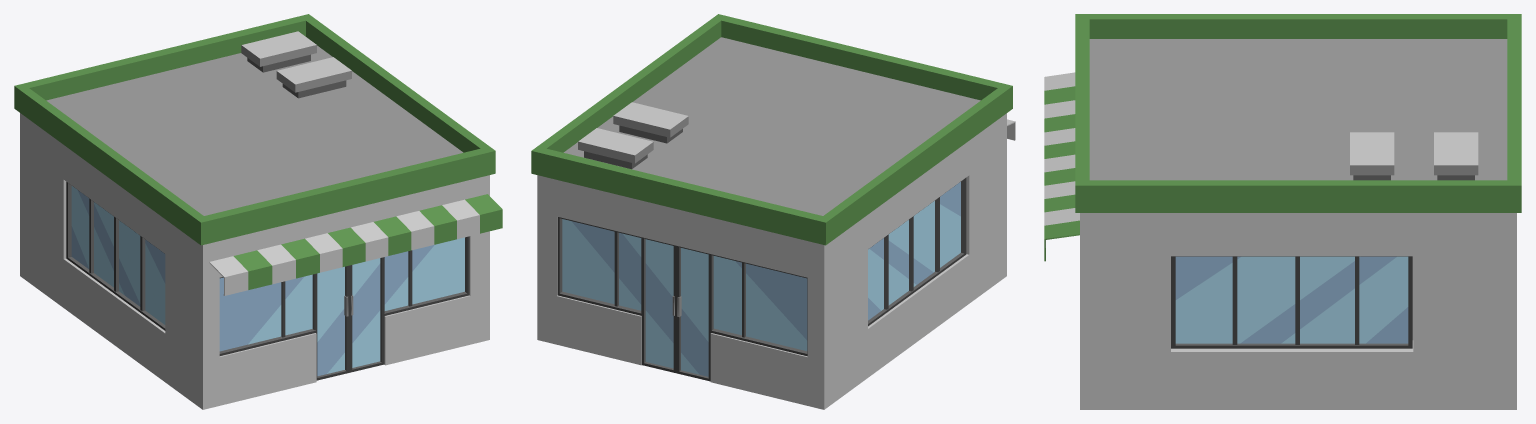
Rendered from cafe_007.fbx.
3 views of the same model, side by side, from view 1: azimuth 30°, elevation 25°; view 2: azimuth 150°, elevation 25°; view 3: azimuth 270°, elevation 25° (orthographic). The views are drawn at different scales.
Parts seen in each view (by area): view 1: cafe_007; view 2: cafe_007; view 3: cafe_007.
Part boxes in pixels (bbox=[...]): cafe_007: bbox=[14, 14, 502, 409]; cafe_007: bbox=[531, 14, 1015, 409]; cafe_007: bbox=[1044, 14, 1521, 409].
Size of the model in its own units: 520 by 325 by 611.
